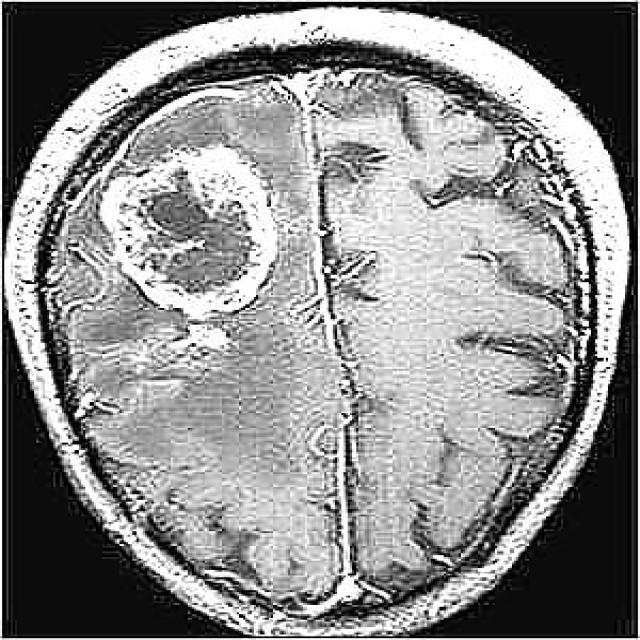Tumor-Cell: (100, 152, 314, 281)
